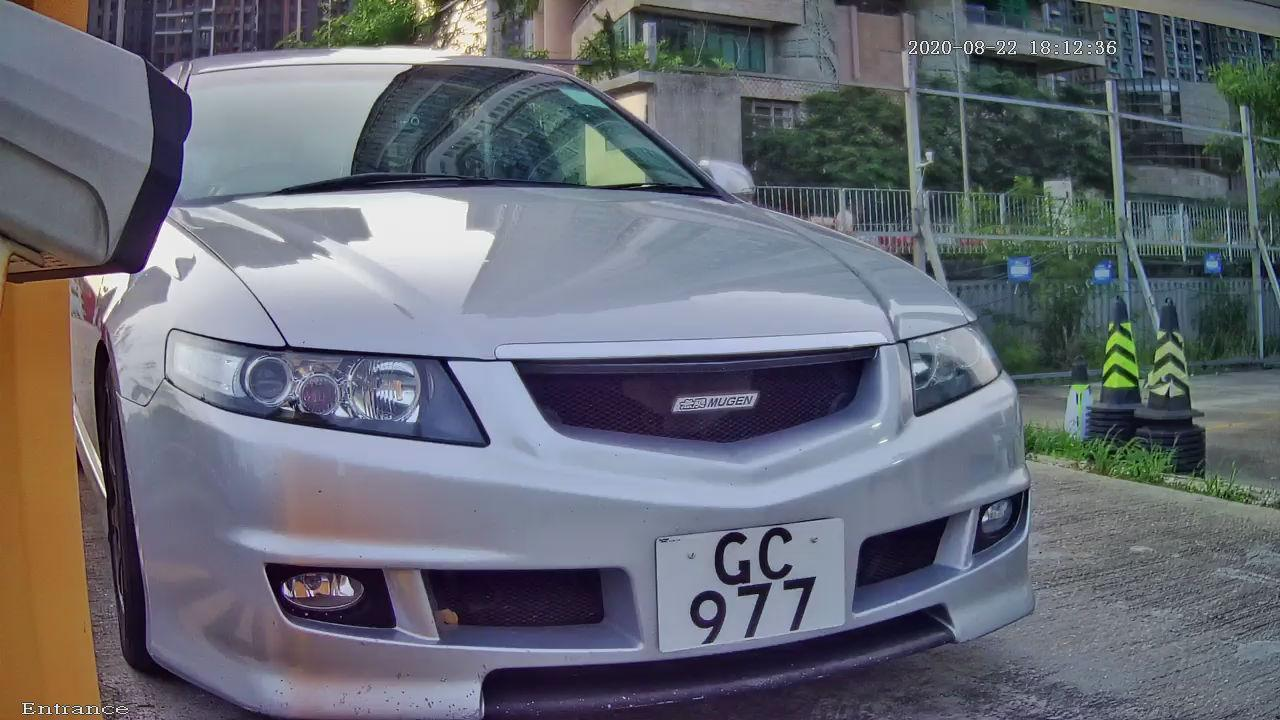Car: (58, 7, 1092, 720)
License Plate: (605, 456, 892, 687)
